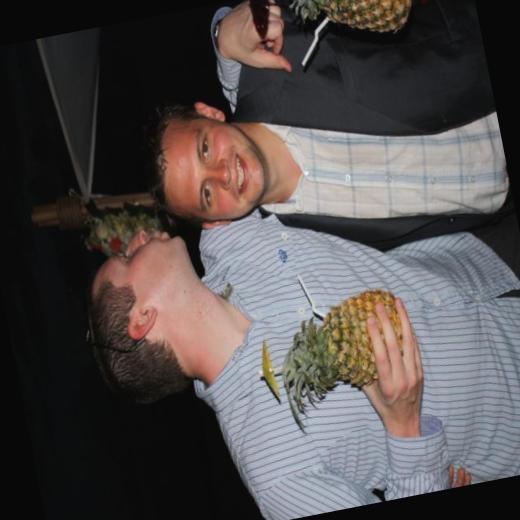Mango: (268, 282, 416, 430), (287, 0, 421, 49)
